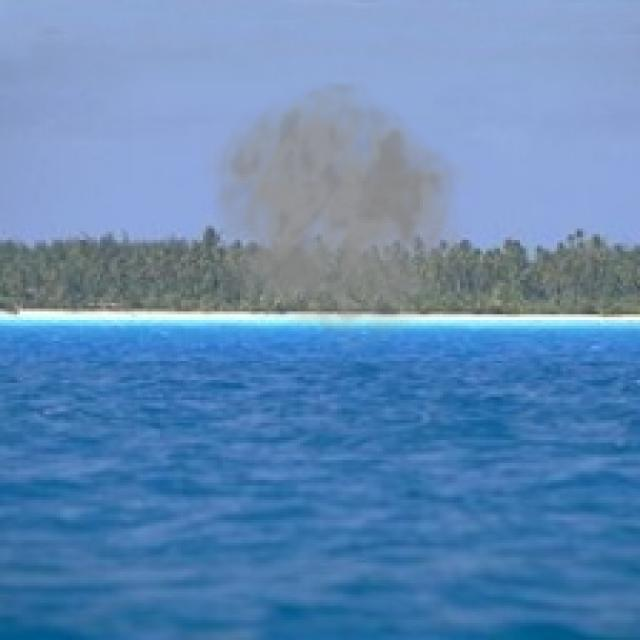Smoke: (203, 80, 480, 354)
